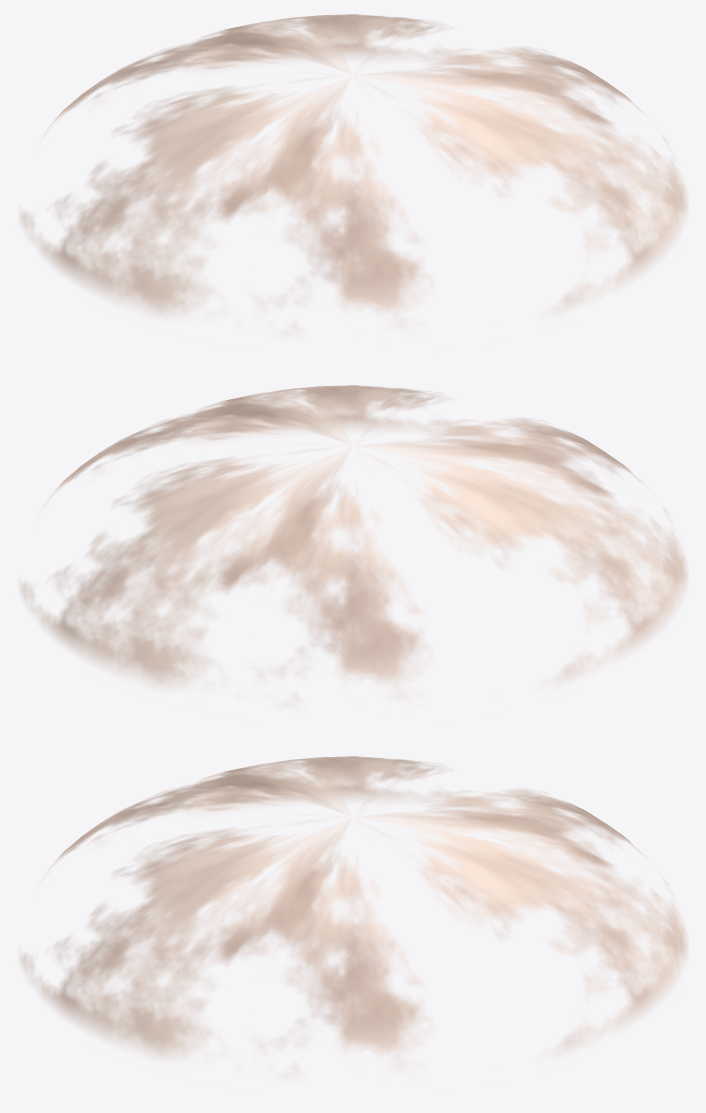
The model's file is clouds.glb.
3 renders of one model, top to bottom at view 1: azimuth 30°, elevation 25°; view 2: azimuth 150°, elevation 25°; view 3: azimuth 270°, elevation 25°, orthographic.
Parts seen in each view (by area): view 1: clouds; view 2: clouds; view 3: clouds.
Part boxes in pixels (x1,y1,x2,y2): clouds: (19, 14, 688, 335); clouds: (19, 385, 688, 706); clouds: (19, 756, 688, 1077).
Bounding box in the file's own units: 1200 × 270 × 1200.
Materials: 1 (1 with a texture image).
